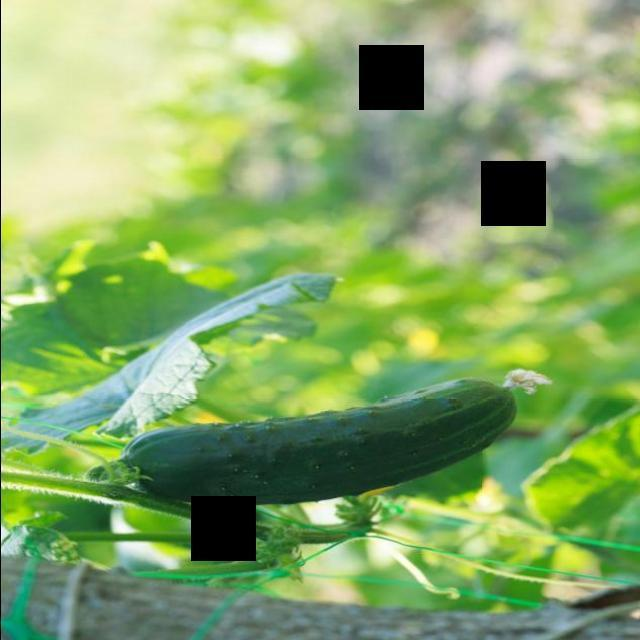cucumber: (120, 374, 520, 510)
